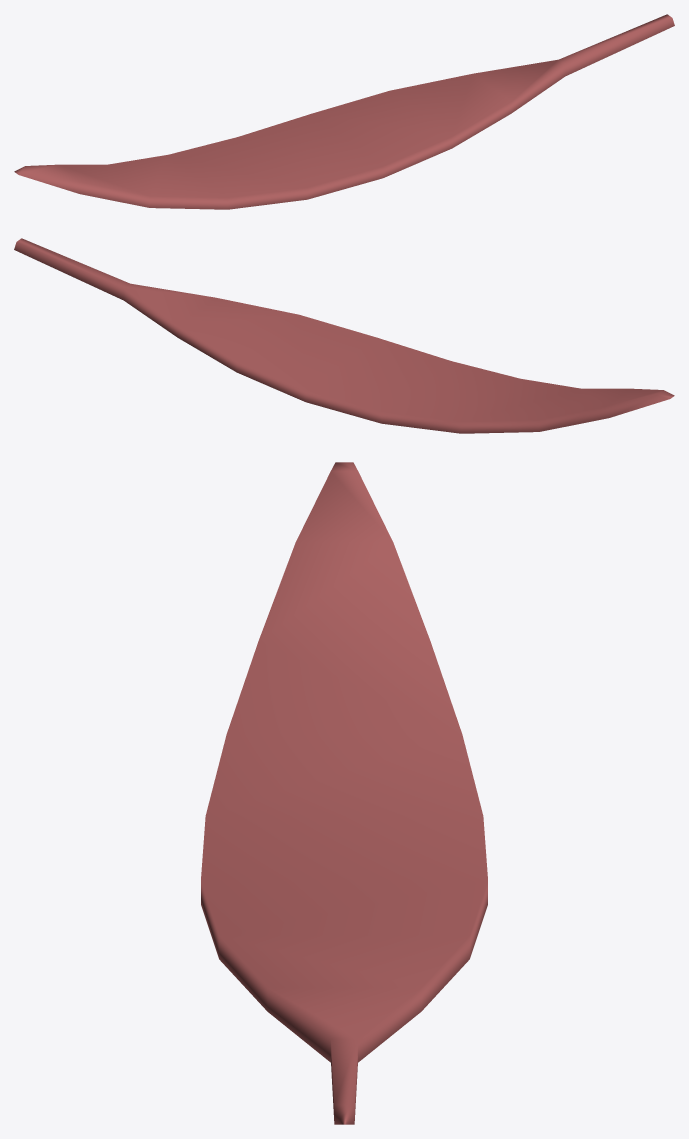
The model's file is Feather.fbx.
The picture shows the model from 3 angles, top to bottom: view 1: azimuth 30°, elevation 25°; view 2: azimuth 150°, elevation 25°; view 3: azimuth 270°, elevation 25°; orthographic projection. The views are drawn at different scales.
Visible parts, largest first — view 1: Feather; view 2: Feather; view 3: Feather.
Boxes of the visible parts, left/top/right/bottom form: Feather: left=14, top=14, right=674, bottom=209; Feather: left=14, top=238, right=674, bottom=433; Feather: left=201, top=462, right=487, bottom=1124.
Size of the model in its own units: 34.61 by 3.29 by 6.56.
